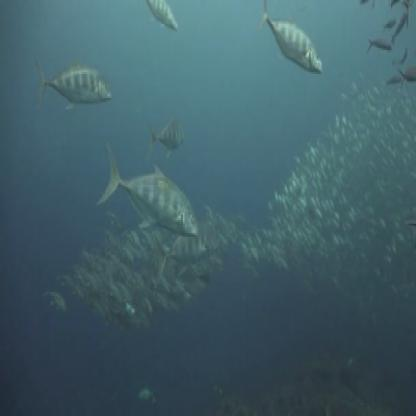jack: (92, 133, 202, 240), (30, 43, 119, 114), (249, 1, 327, 77)
